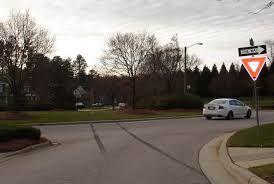yield_sign: (240, 56, 268, 81)
